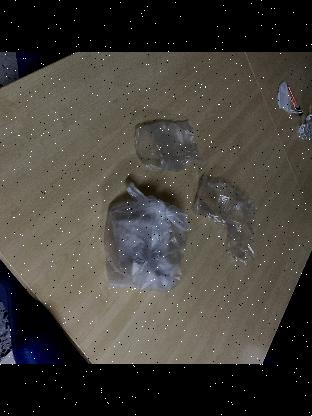Others: (101, 193, 187, 292), (192, 174, 260, 266), (134, 117, 199, 169), (274, 83, 298, 117)
Plastic Bottle: (296, 101, 312, 144)
